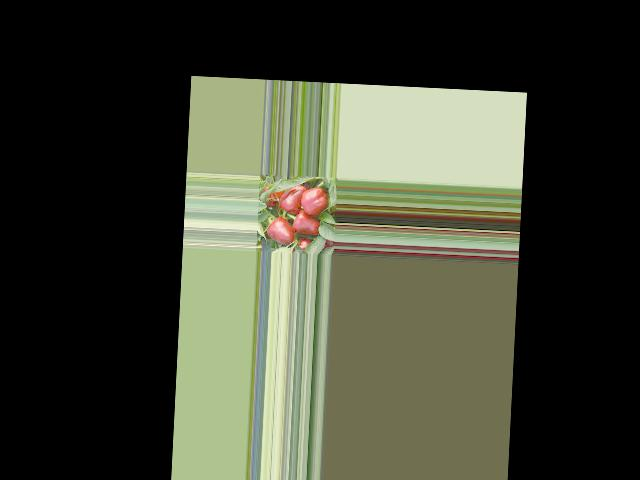bell_pepper: (299, 184, 328, 222)
